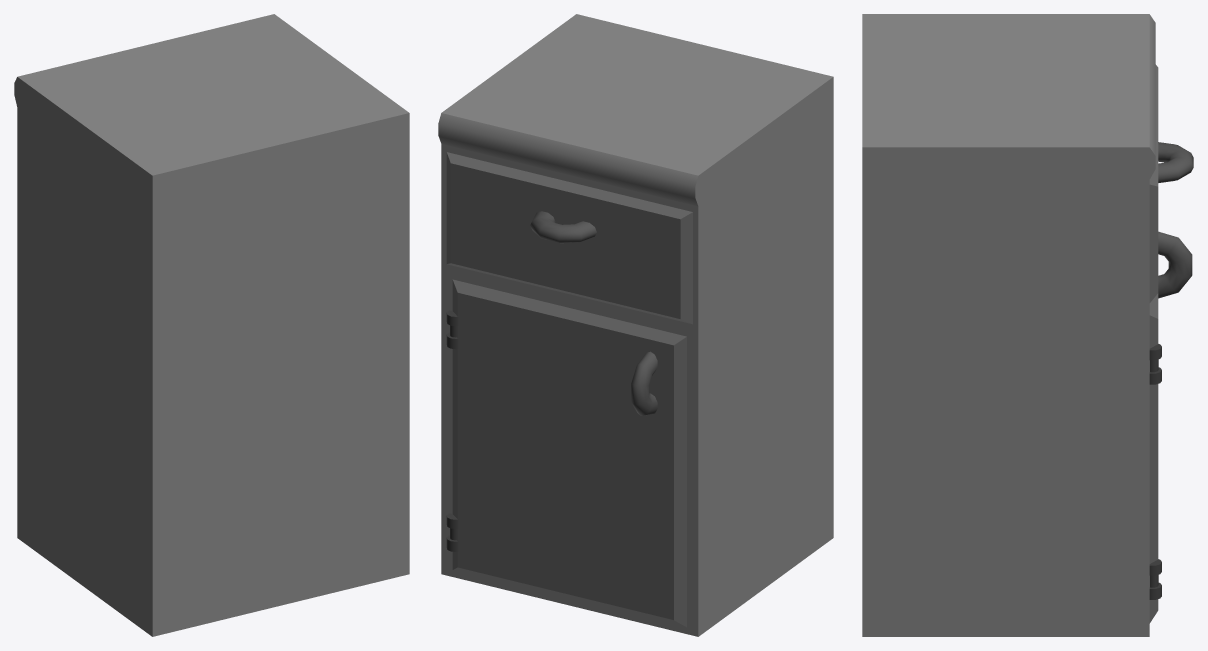
File: Cupboard#1Model.fbx
The picture shows the model from 3 angles, left to right: view 1: azimuth 30°, elevation 25°; view 2: azimuth 150°, elevation 25°; view 3: azimuth 270°, elevation 25°; orthographic projection. The views are drawn at different scales.
Parts seen in each view (by area): view 1: Cupboard#1Model; view 2: Cupboard#1Model; view 3: Cupboard#1Model.
Part boxes in pixels (box(x1,y1,x2,y2)): Cupboard#1Model: box(14, 14, 409, 636); Cupboard#1Model: box(438, 14, 833, 636); Cupboard#1Model: box(862, 14, 1193, 636).
Bounding box in the file's own units: 66.29 × 114 × 69.63.
